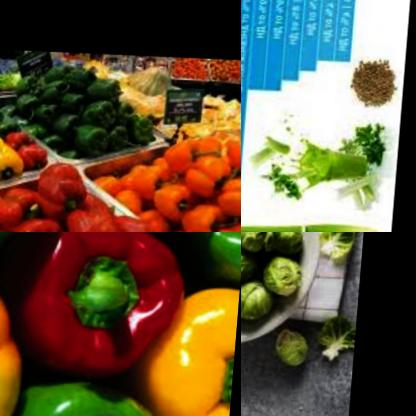bell pepper: (0, 232, 201, 384), (0, 153, 241, 232), (81, 119, 241, 232), (2, 47, 171, 151), (142, 273, 241, 416), (0, 372, 185, 416), (0, 254, 43, 416), (0, 70, 36, 200), (156, 232, 241, 285)
brus capusta: (241, 232, 313, 324), (267, 313, 315, 365), (324, 312, 359, 366), (314, 232, 356, 262)
celery: (241, 205, 396, 232), (339, 168, 388, 214), (246, 126, 295, 164)
